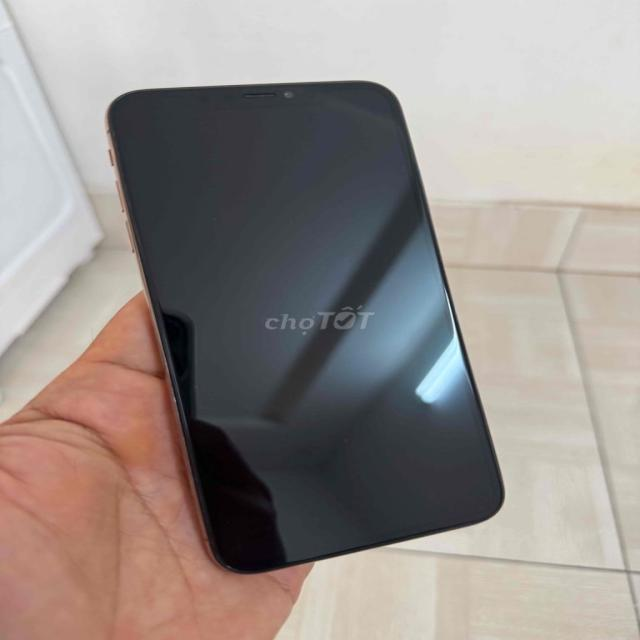gen_x_xs: (110, 82, 502, 572)
